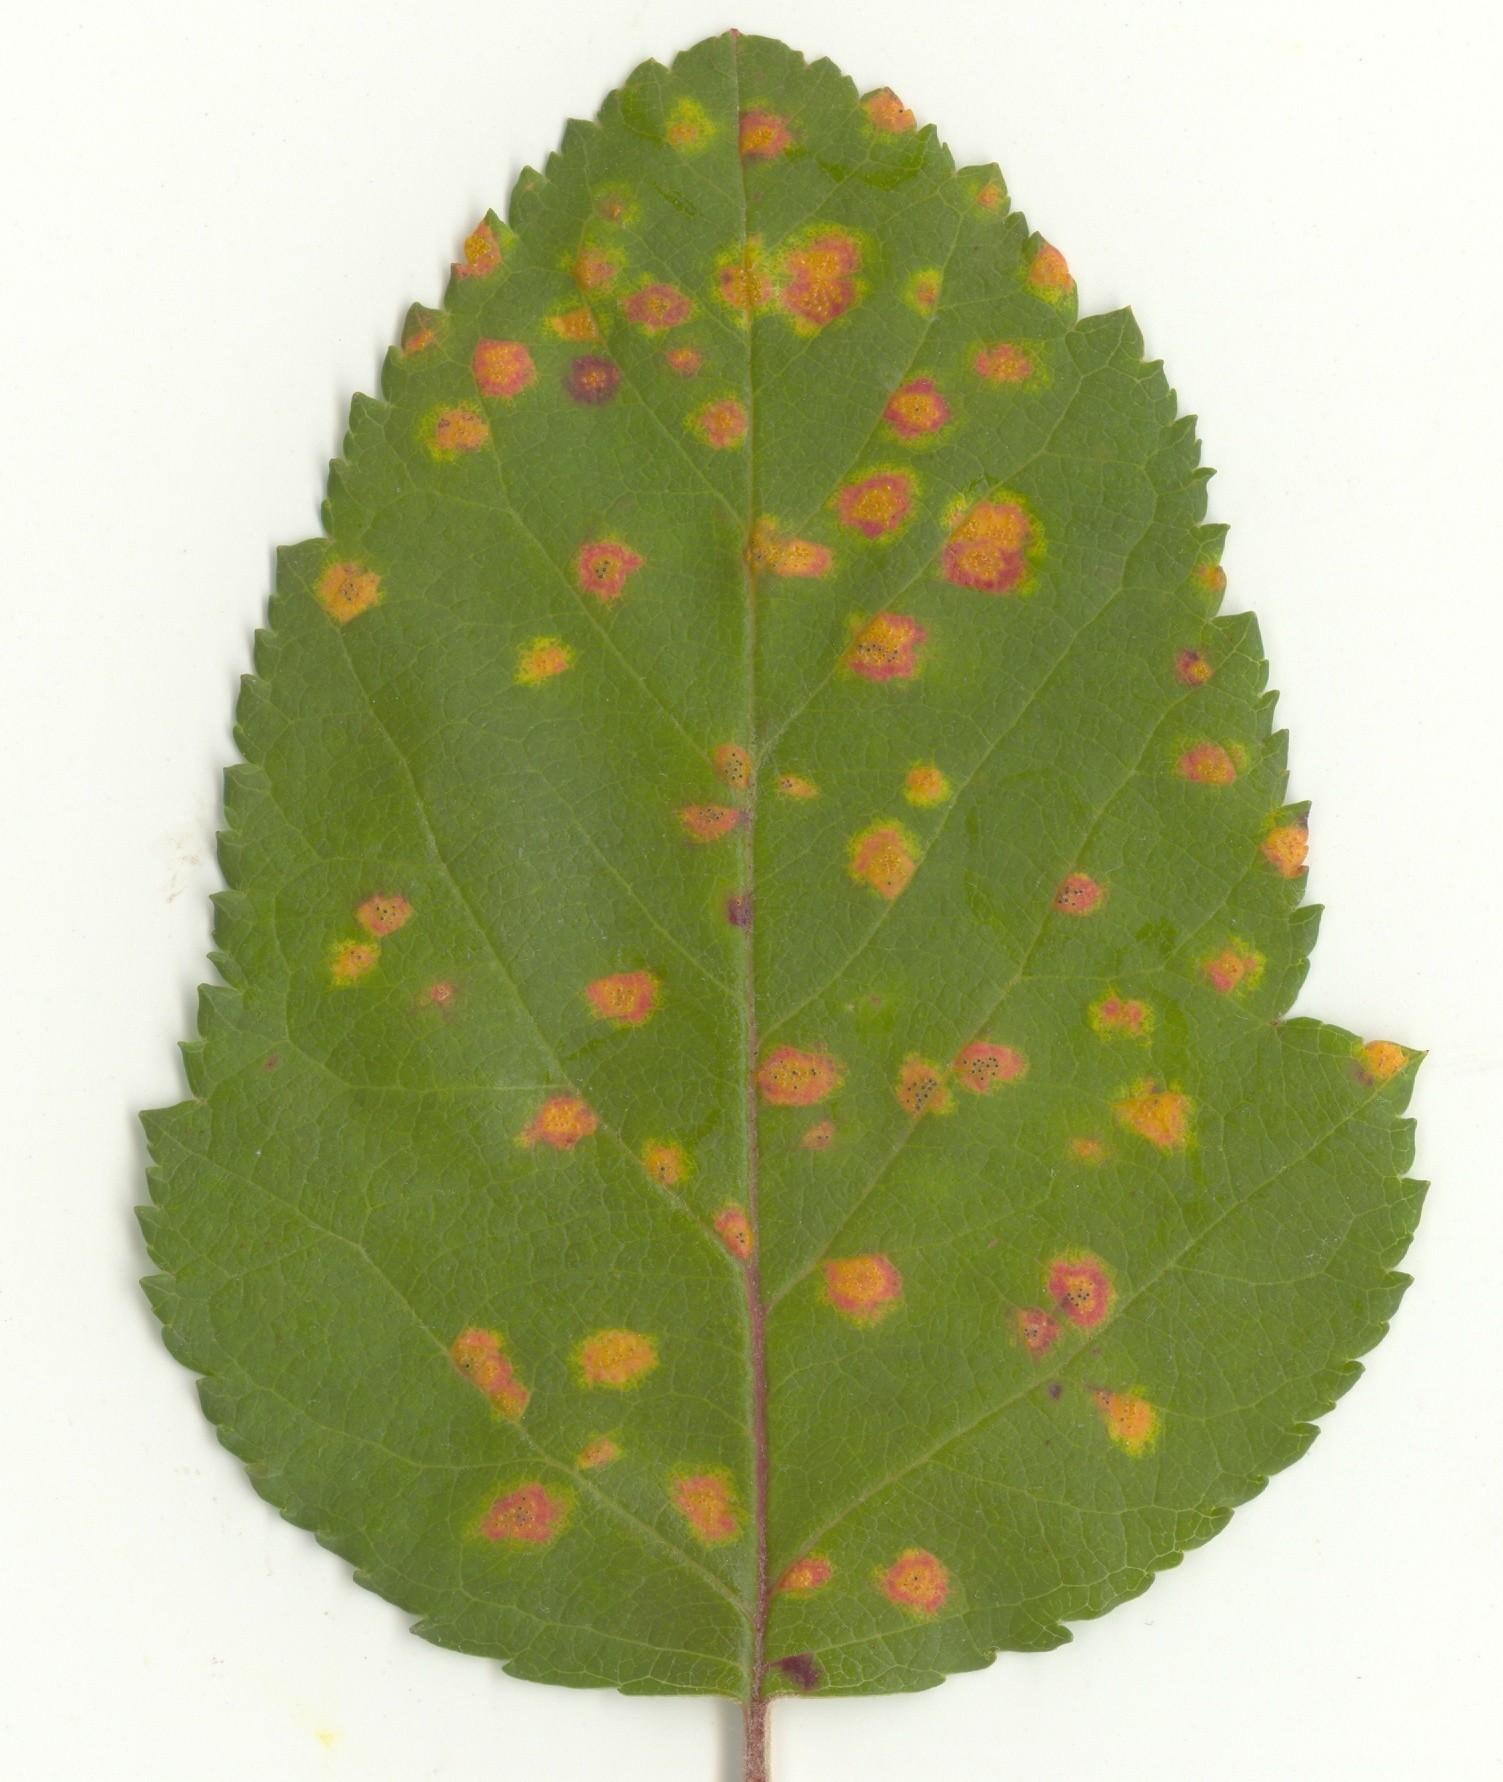Apple rust leaf: (13, 9, 1452, 1725)
